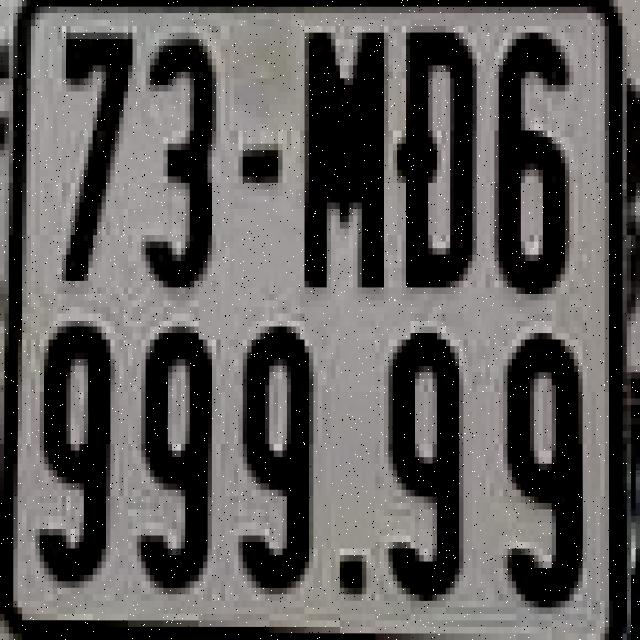3: (141, 33, 221, 287)
6: (492, 22, 572, 290)
7: (58, 23, 132, 284)
9: (497, 327, 589, 608), (379, 320, 468, 601), (234, 316, 318, 598), (33, 313, 117, 588), (135, 320, 214, 594)
D: (397, 22, 481, 290)
M: (296, 19, 388, 294)
